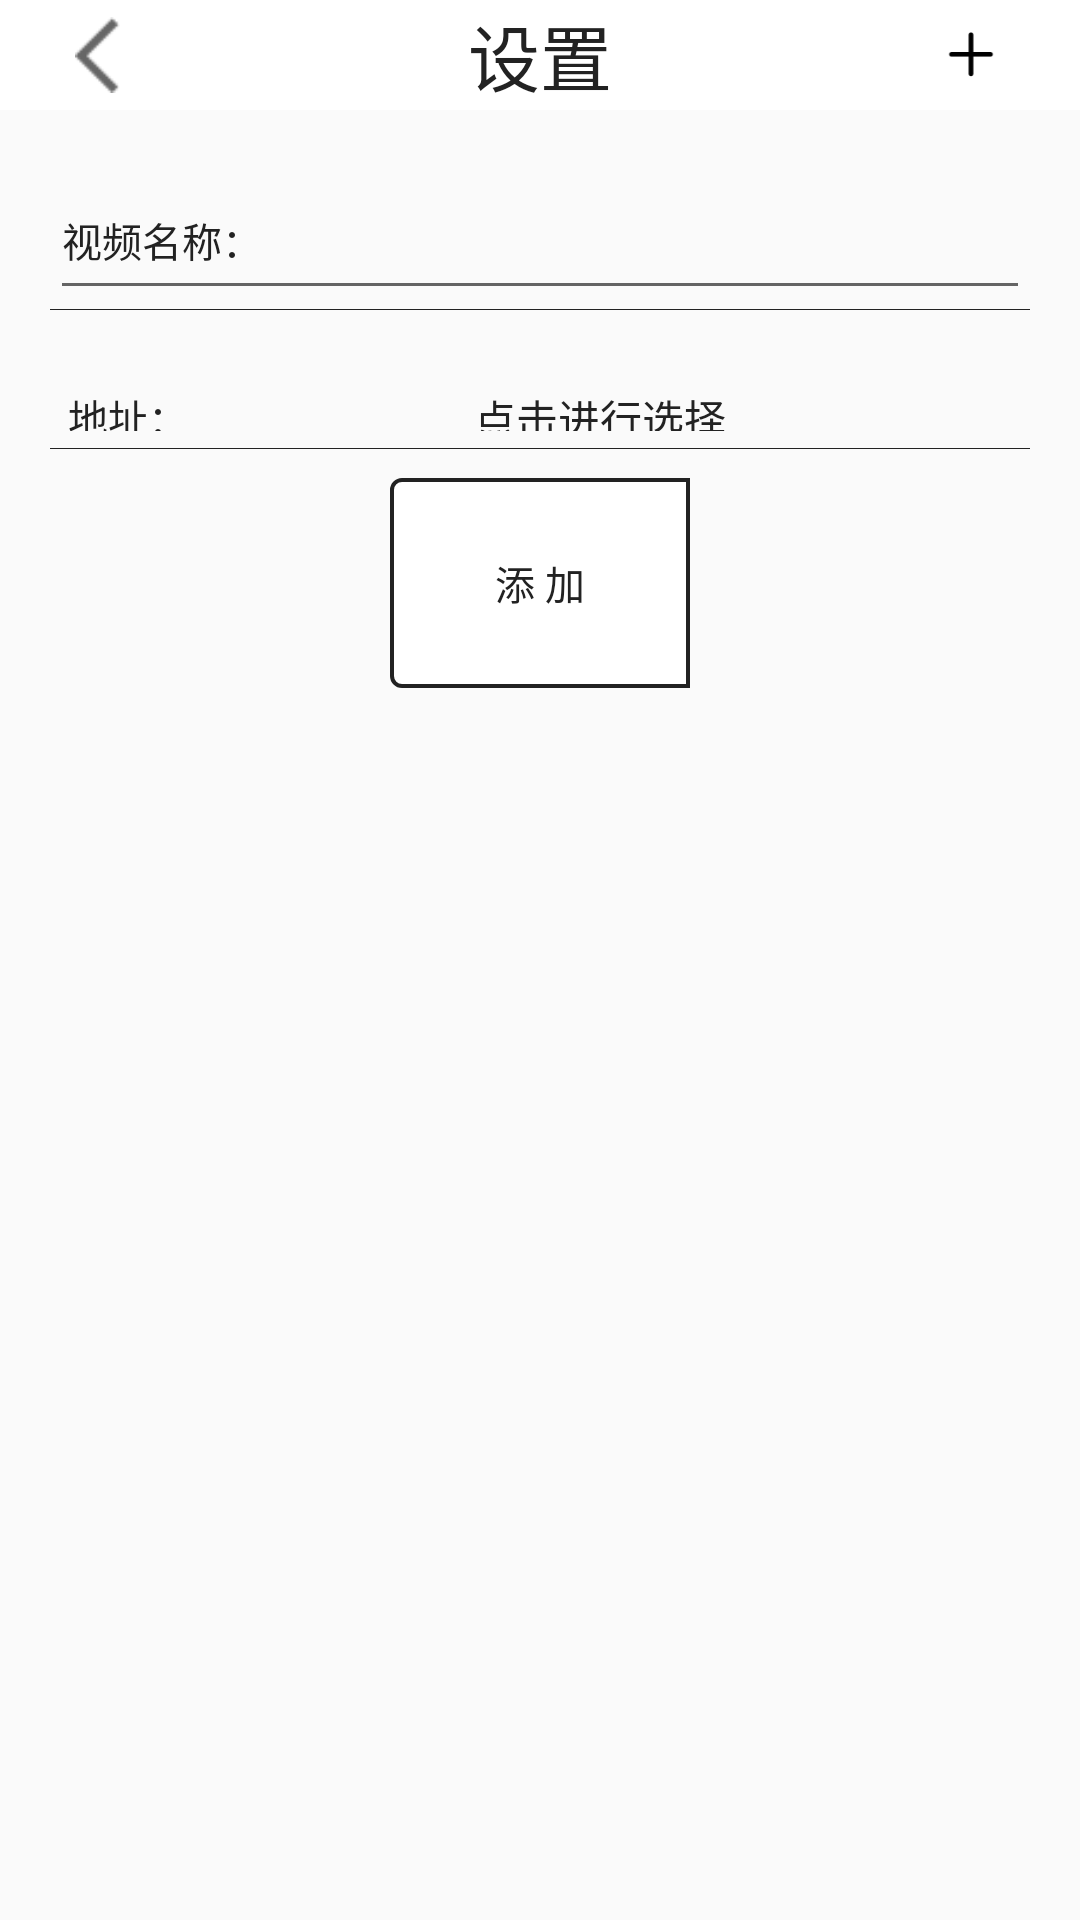

Icon click points for this 1080×1920 phone screenshot, format (x,y):
add data: (971,54)
goback: (97,55)
